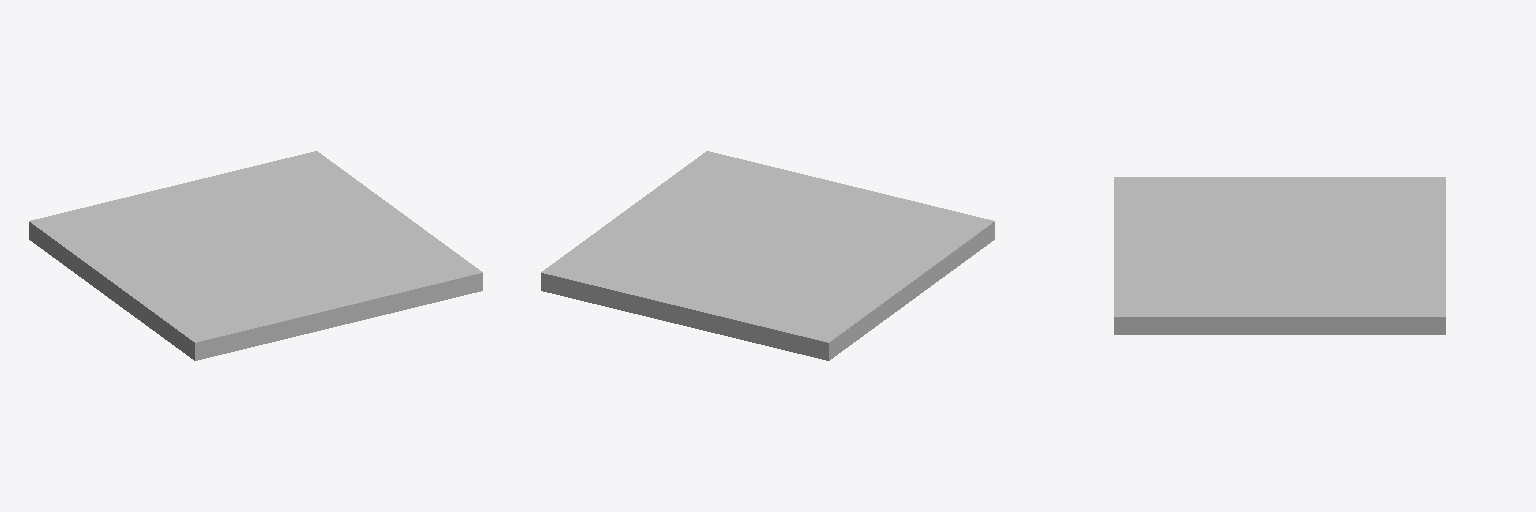
Rendered from Tower_Block_Platform_3x3.obj.
The picture shows the model from 3 angles: view 1: azimuth 30°, elevation 25°; view 2: azimuth 150°, elevation 25°; view 3: azimuth 270°, elevation 25°; orthographic projection.
Parts seen in each view (by area): view 1: Tower_Block_Platform_3x3; view 2: Tower_Block_Platform_3x3; view 3: Tower_Block_Platform_3x3.
Part boxes in pixels (left/top/right/bottom): Tower_Block_Platform_3x3: left=29, top=151, right=482, bottom=360; Tower_Block_Platform_3x3: left=541, top=151, right=994, bottom=360; Tower_Block_Platform_3x3: left=1114, top=177, right=1445, bottom=334.
Bounding box in the file's own units: 4.96 × 0.3 × 4.96.